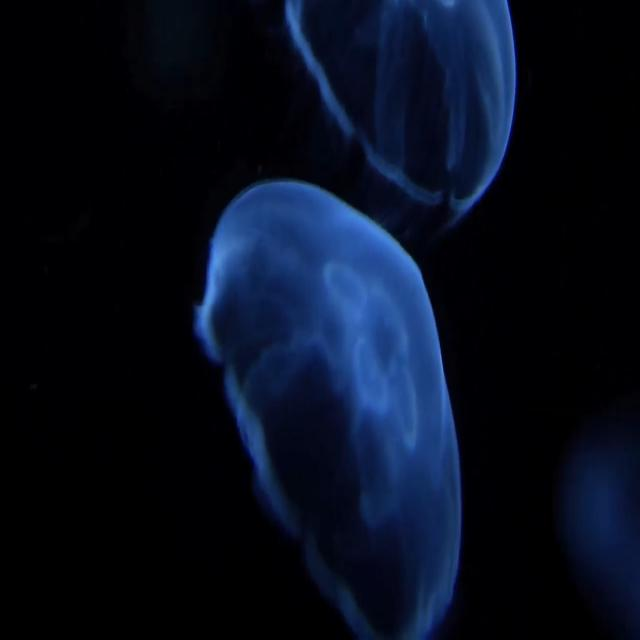Moon-jellyfish: (192, 179, 465, 639), (284, 0, 520, 218)
